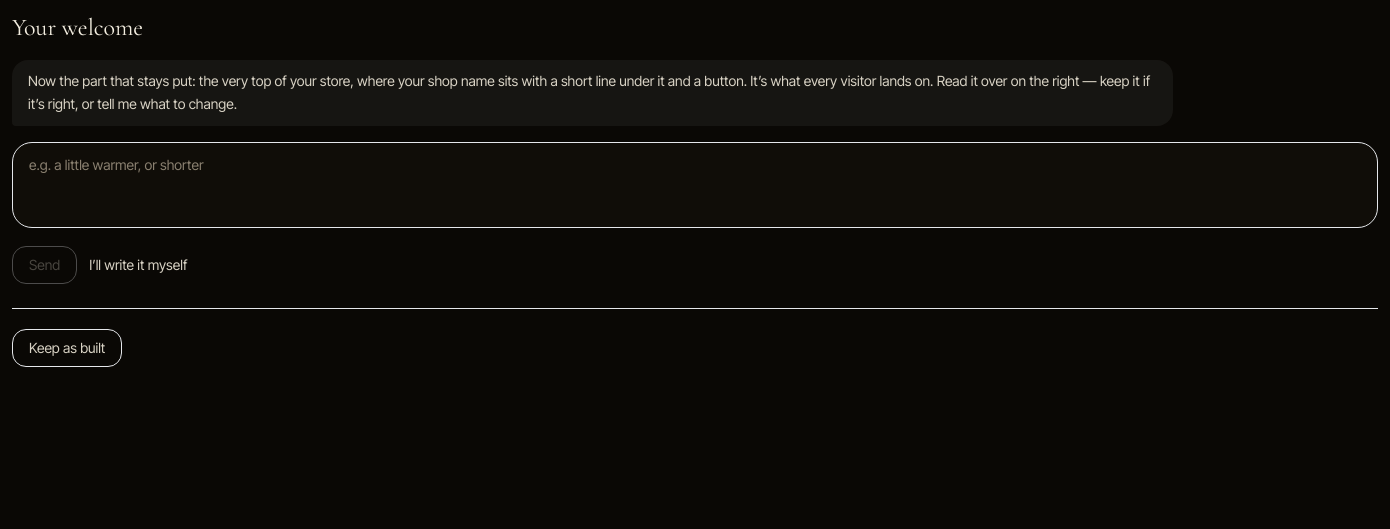
Test: SectionEditor — conversation › once the maker has spoken, Write it up sends the conversation to the writer, resolves, and refreshes
Type "calm and witchy" into the text box with placeholder "e.g. a little warmer, or shorter".
click(695, 184); type("calm and witchy")  # box 12,142 -> 1378,228
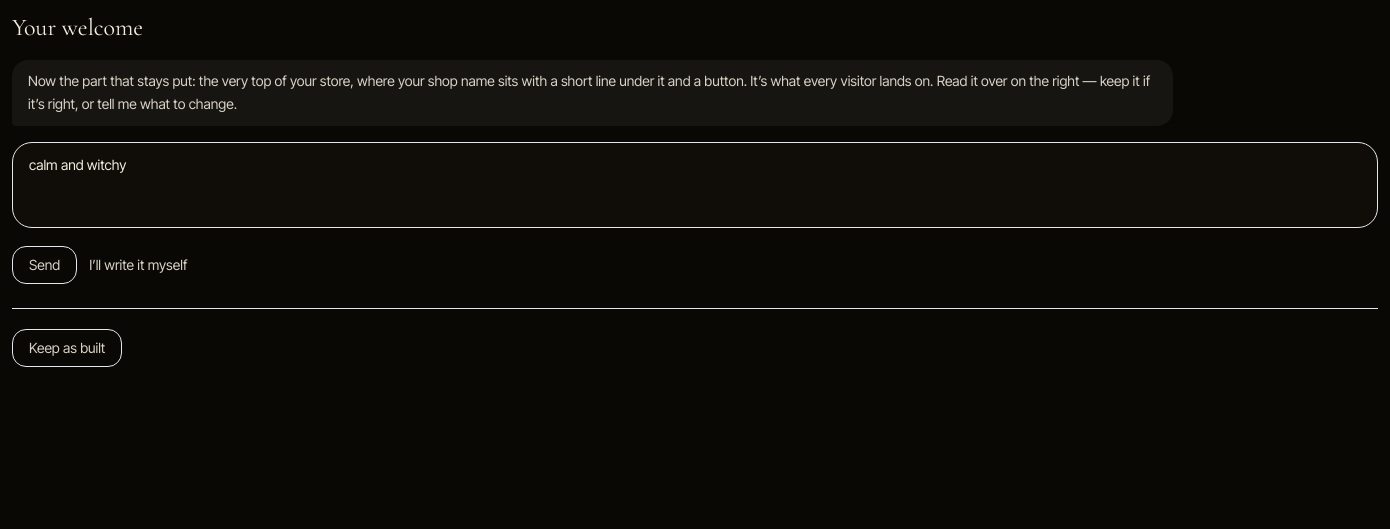
Click the button "Send".
click(45, 264)  # box 12,246 -> 77,284
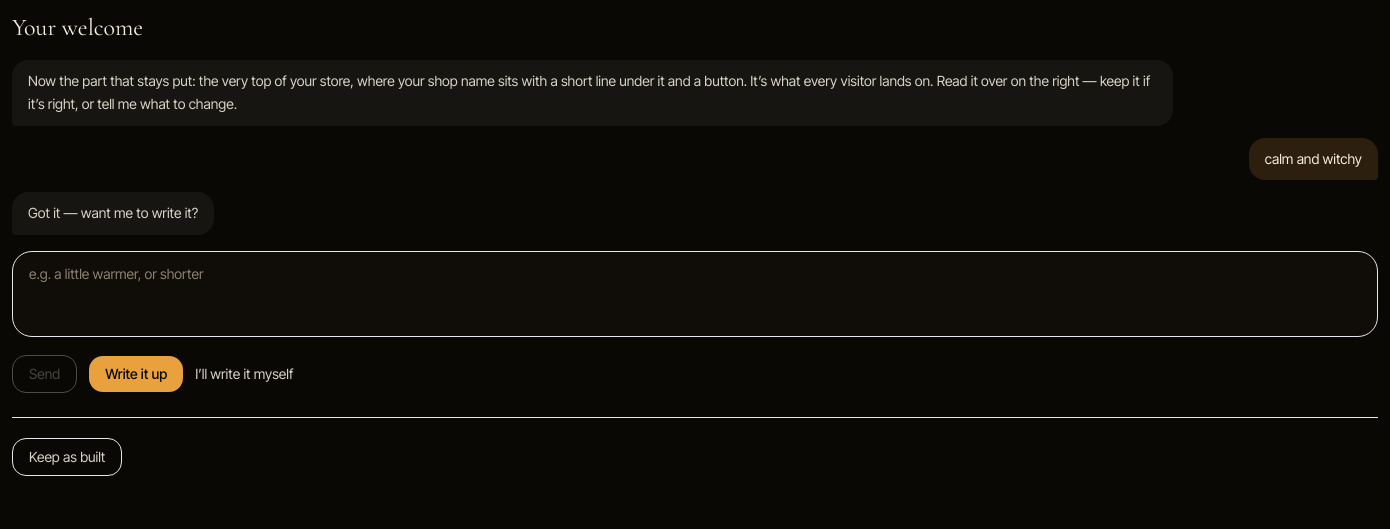
Expected: the text "Got it — want me to write it?" is shown, 12,192 -> 214,235
Click the button "Write it up".
click(136, 374)  # box 89,356 -> 183,392
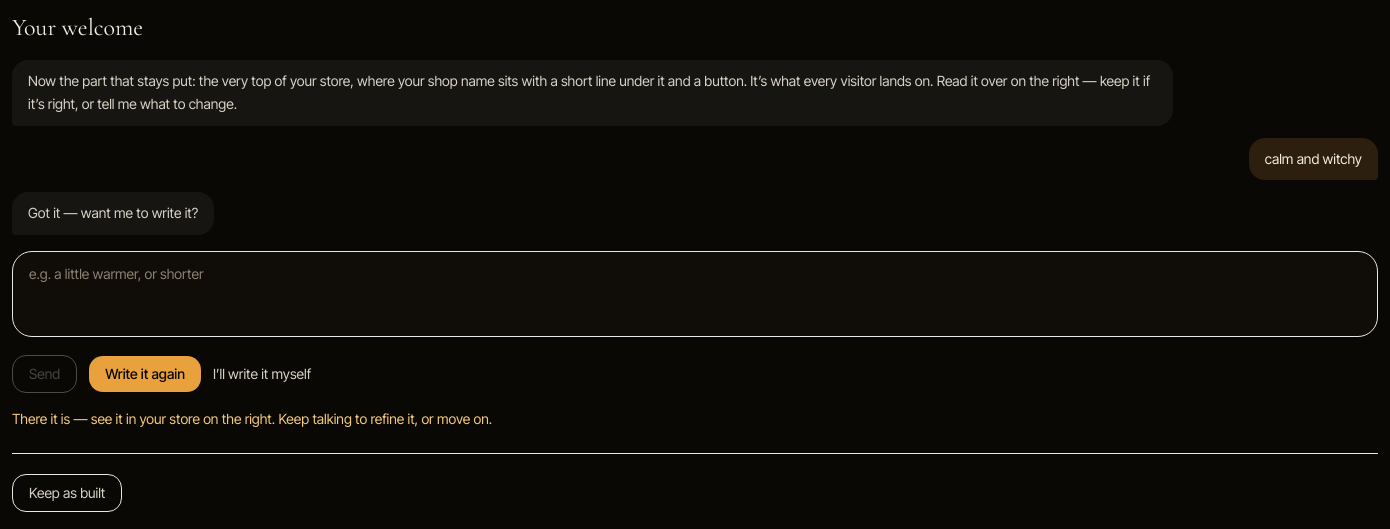
Expected: the text "There it is" is shown, 12,410 -> 492,427
